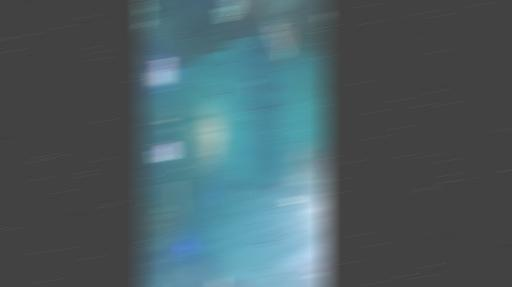Fish: (270, 20, 291, 64), (218, 0, 241, 22), (300, 152, 315, 174), (291, 161, 304, 184), (231, 184, 242, 211), (292, 140, 305, 160), (312, 163, 325, 178), (282, 195, 299, 205), (236, 181, 249, 194), (309, 262, 320, 277), (319, 150, 327, 169), (246, 79, 255, 93), (208, 67, 217, 79), (228, 90, 238, 100), (307, 262, 318, 271), (223, 69, 232, 79), (256, 104, 275, 108), (261, 183, 280, 187), (318, 12, 327, 20), (203, 84, 214, 90), (233, 106, 241, 114), (205, 94, 214, 101), (216, 197, 225, 204), (233, 76, 237, 88), (220, 90, 226, 97), (213, 91, 222, 95), (221, 71, 225, 77)
